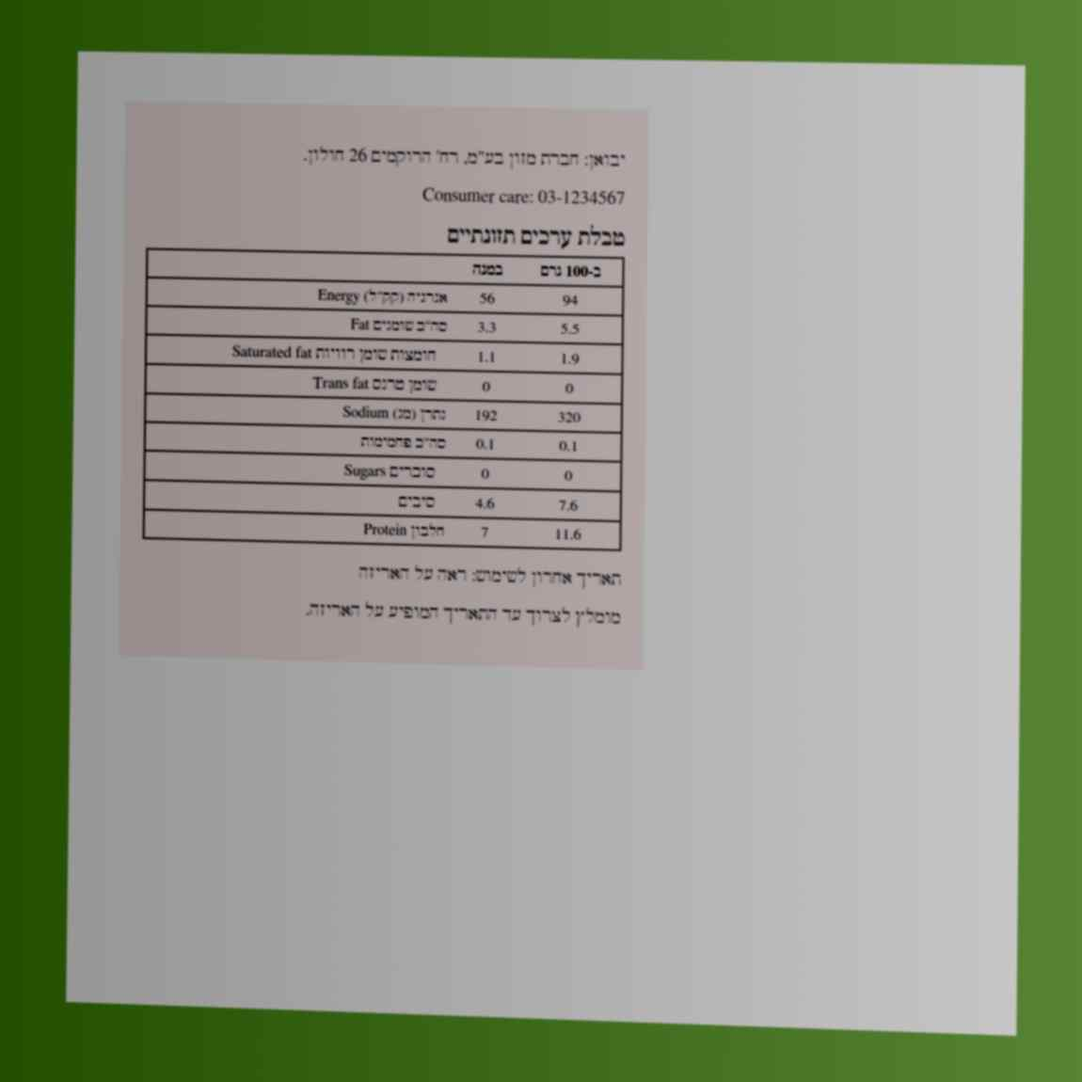carbs: (557, 436, 580, 456)
energy: (561, 291, 580, 310)
fat: (559, 319, 582, 339)
protein: (553, 525, 583, 544)
